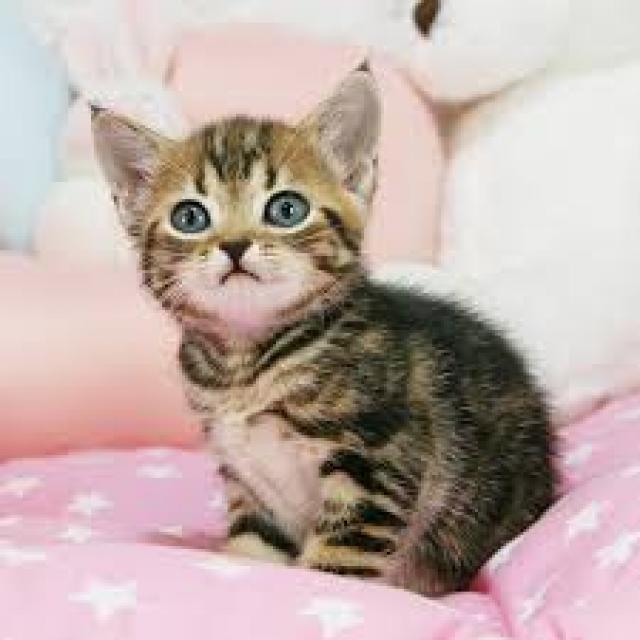cat-face: (74, 63, 482, 414)
